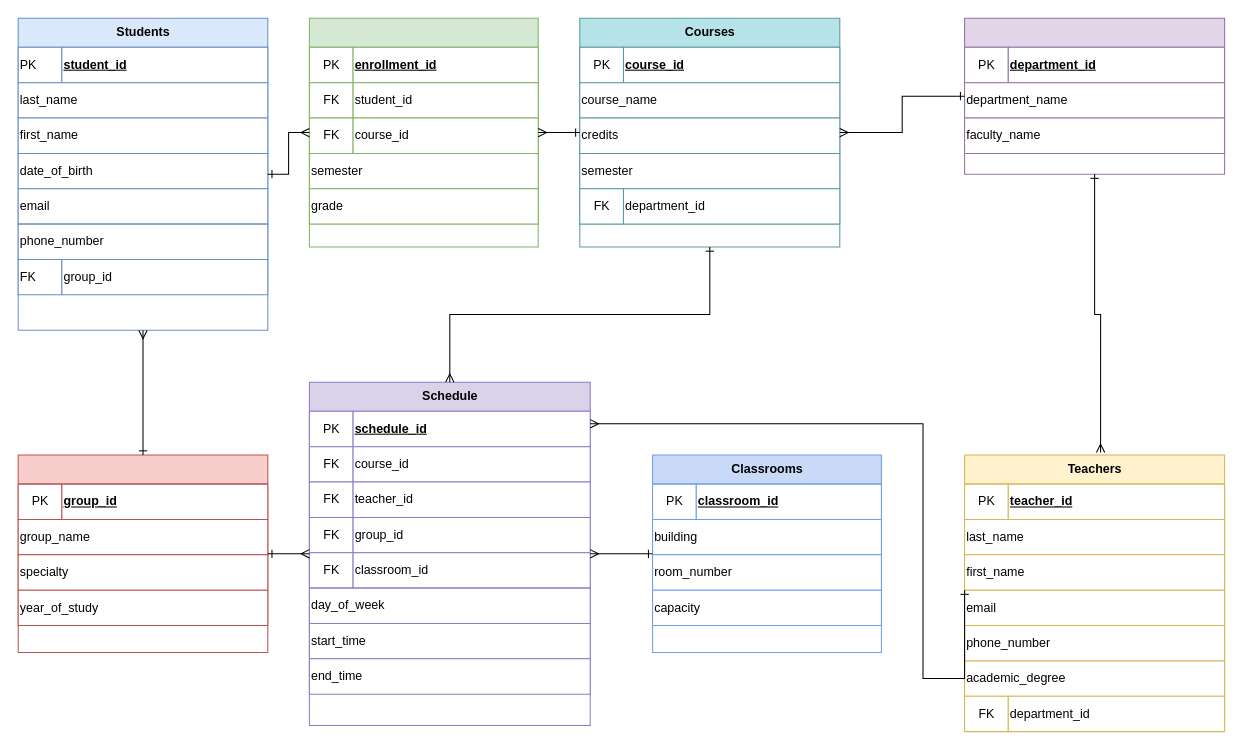
The diagram is 1243 pixels wide and 750 high, and some of its shapes have lost their labels. The box of each missing label's shape, as (x1, y1, x2, y2) in pixels:
Departments: (964, 17, 1225, 174)
Enrollments: (308, 17, 538, 247)
Groups: (17, 454, 268, 653)
